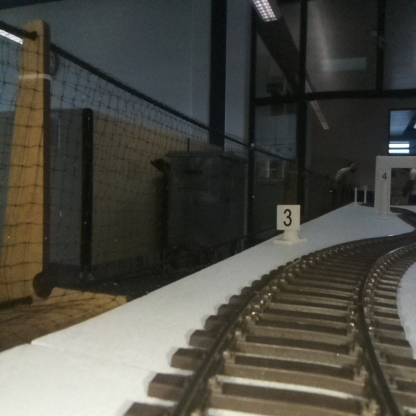white-stop-3: (277, 205, 300, 244)
